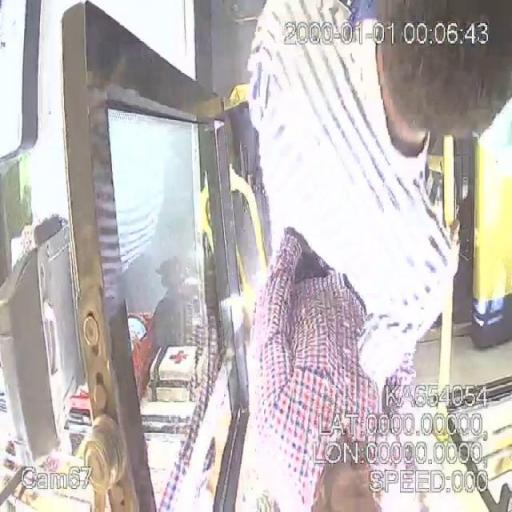persona: (233, 0, 512, 326), (243, 216, 406, 512)
